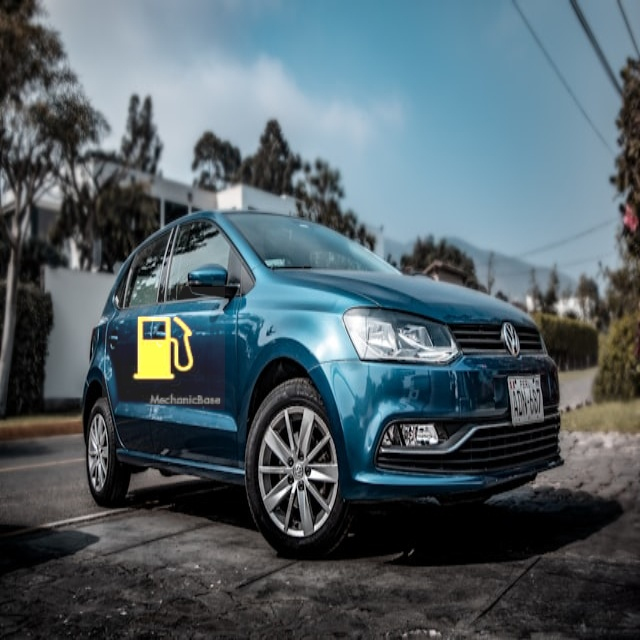symbol: (102, 287, 225, 410)
